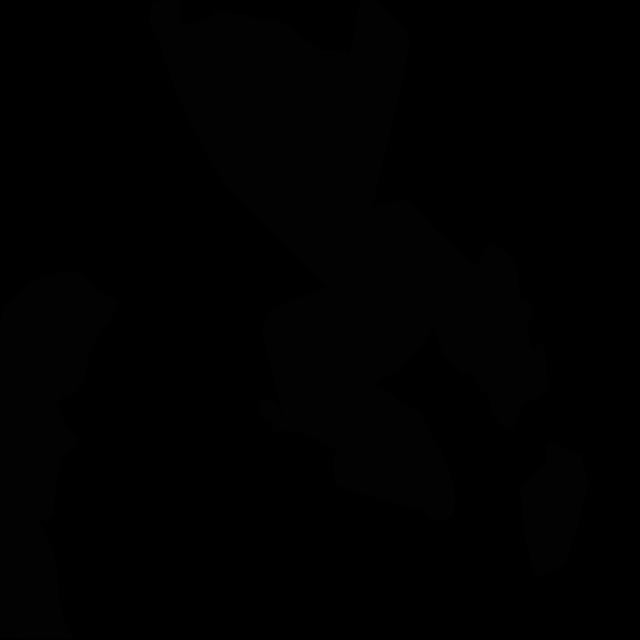cardboard: (148, 0, 411, 285), (262, 199, 476, 426), (0, 269, 119, 521), (260, 385, 455, 521), (436, 241, 548, 429), (0, 480, 74, 639), (520, 442, 589, 578)
